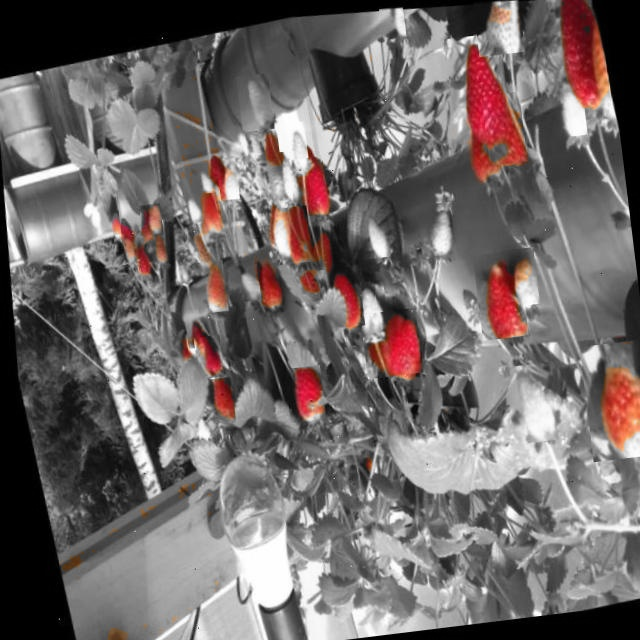ripe: (536, 0, 611, 111), (444, 32, 513, 150), (473, 250, 529, 340), (360, 307, 424, 378), (481, 91, 527, 165), (320, 265, 366, 329), (288, 155, 329, 217), (284, 364, 326, 423), (273, 204, 313, 264), (460, 133, 500, 183), (202, 376, 235, 424), (193, 335, 224, 379), (185, 316, 206, 348)
unripe: (579, 338, 640, 462), (505, 361, 558, 444), (344, 278, 391, 344), (575, 12, 610, 99), (472, 0, 525, 56), (546, 78, 588, 138), (502, 246, 540, 306), (236, 73, 274, 132), (416, 200, 456, 256), (276, 120, 311, 180), (268, 150, 304, 204), (192, 260, 228, 314), (254, 150, 290, 202), (357, 208, 391, 260), (210, 156, 240, 200), (192, 191, 221, 236), (229, 263, 261, 303), (378, 3, 406, 40), (138, 202, 164, 238), (240, 126, 262, 164), (176, 192, 201, 225), (224, 124, 248, 158), (100, 209, 122, 243), (144, 232, 167, 262), (114, 233, 134, 264), (190, 166, 212, 194), (202, 177, 222, 206), (178, 328, 197, 358)
